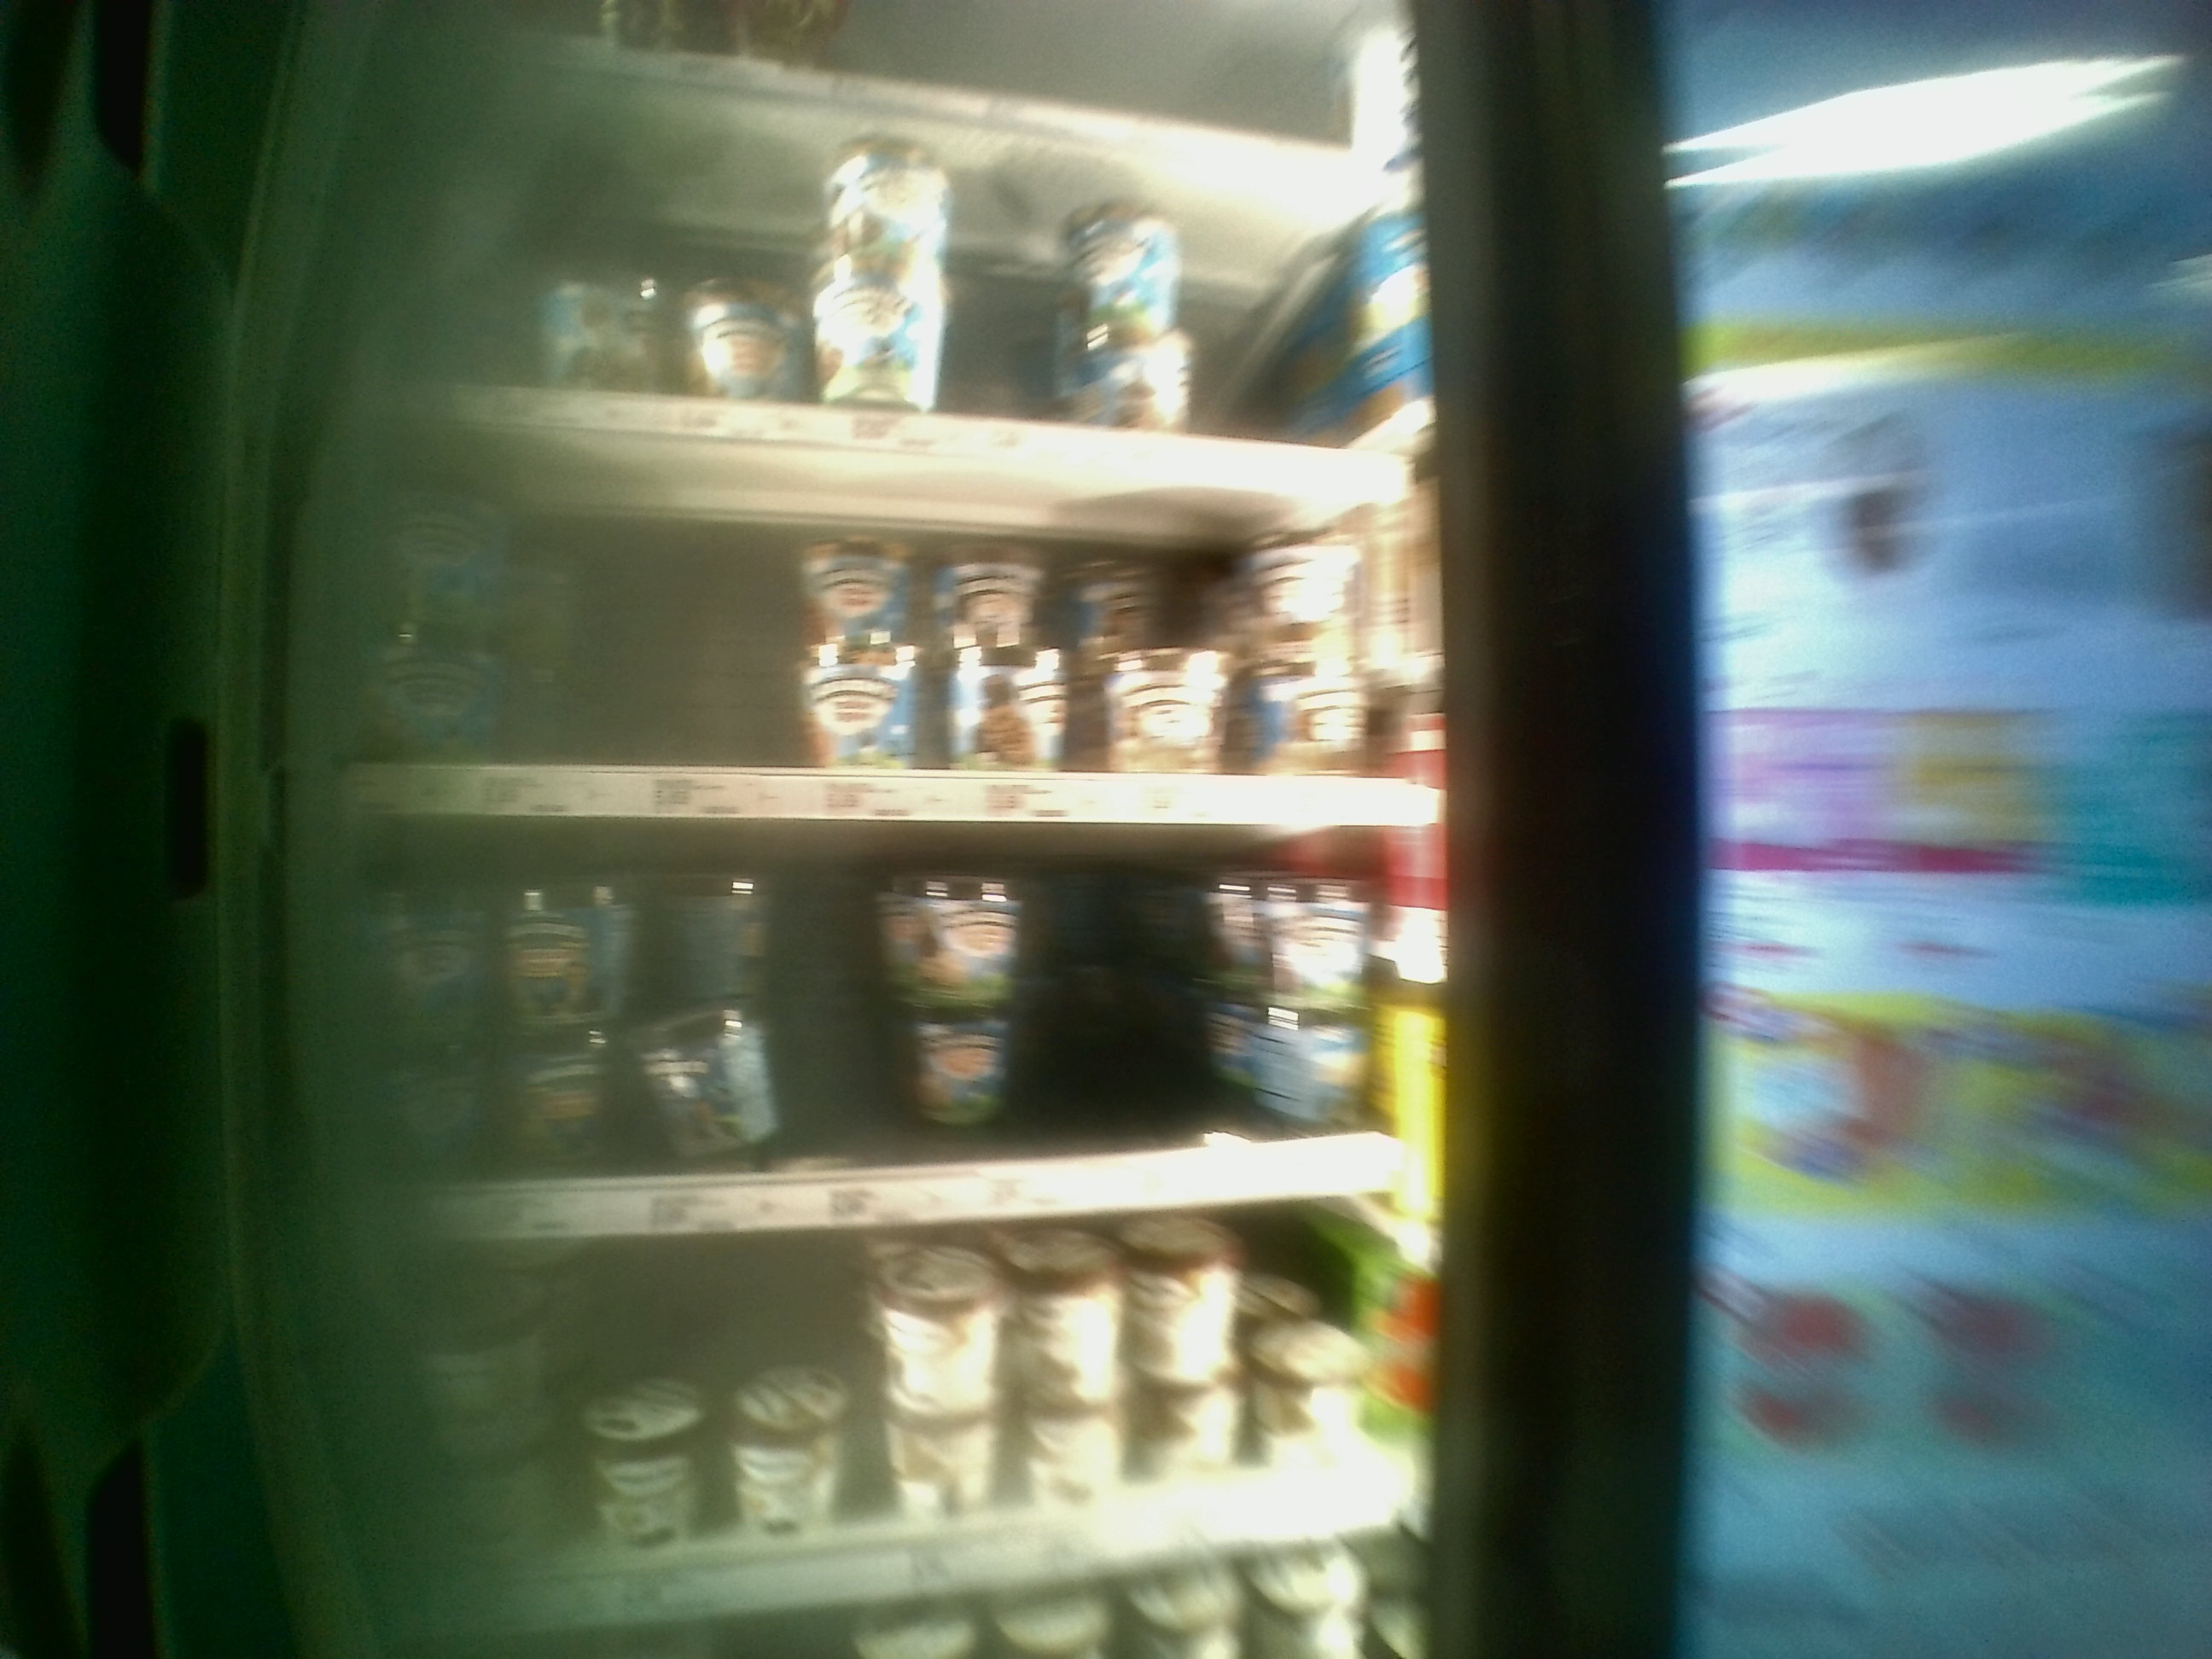shelf: (331, 430, 1399, 824), (338, 833, 1374, 1218)
